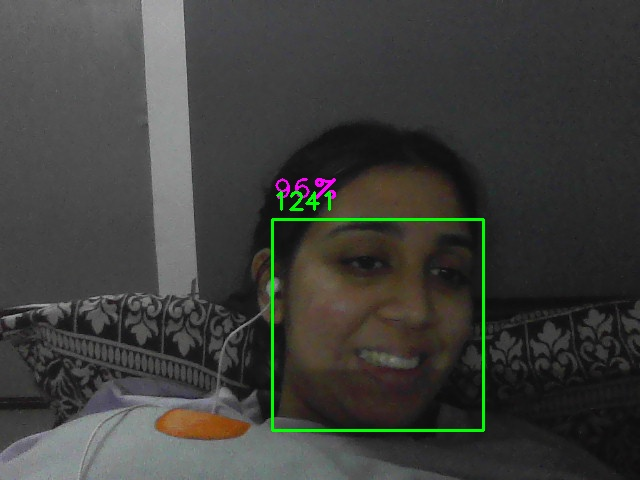real: (272, 219, 484, 431)
